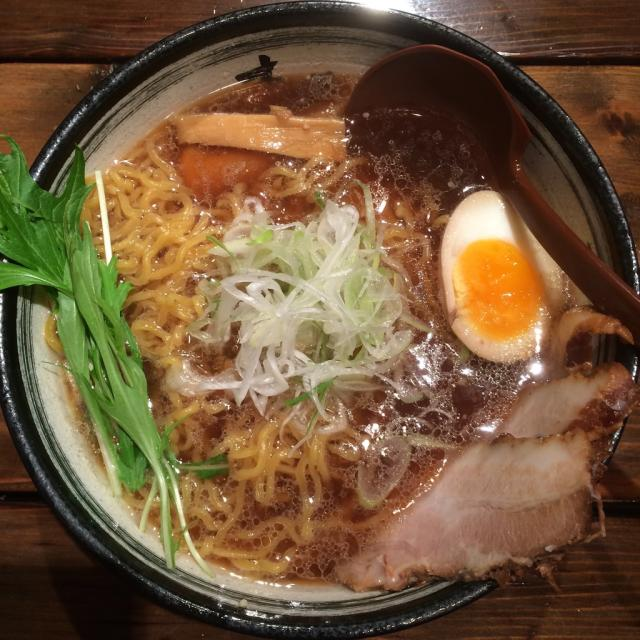Egg: (438, 188, 566, 364)
